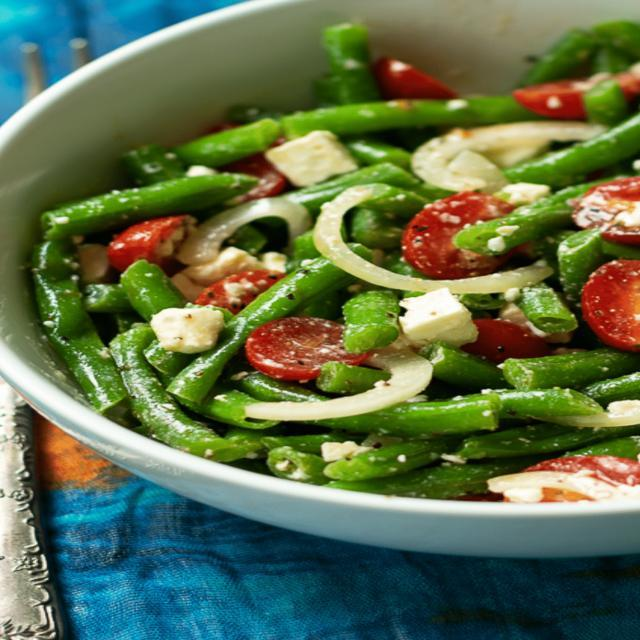Beans: (4, 5, 639, 507)
